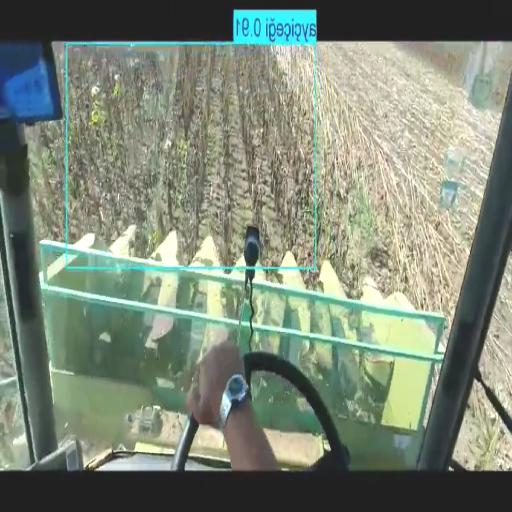ayc: (68, 47, 314, 263), (28, 122, 65, 239)
